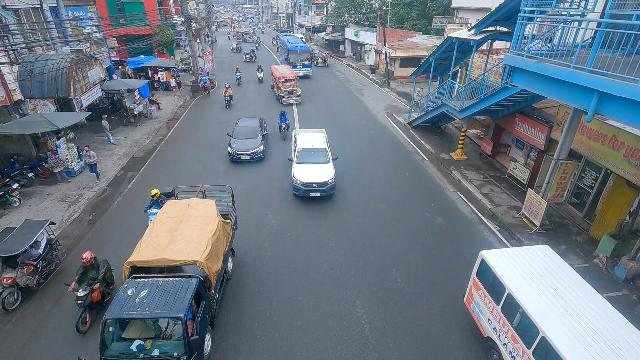bus: (279, 34, 313, 77)
car: (226, 117, 268, 165)
jeepney: (269, 62, 303, 107), (236, 29, 254, 43), (215, 19, 225, 28)
motorcycle: (66, 250, 113, 335), (145, 188, 165, 220), (276, 112, 290, 139), (222, 82, 234, 109), (234, 66, 243, 86), (256, 63, 264, 83), (271, 36, 277, 47), (255, 40, 259, 50), (257, 36, 261, 45), (227, 32, 231, 40), (236, 21, 239, 28)
truck: (95, 186, 237, 360), (290, 128, 336, 200)
